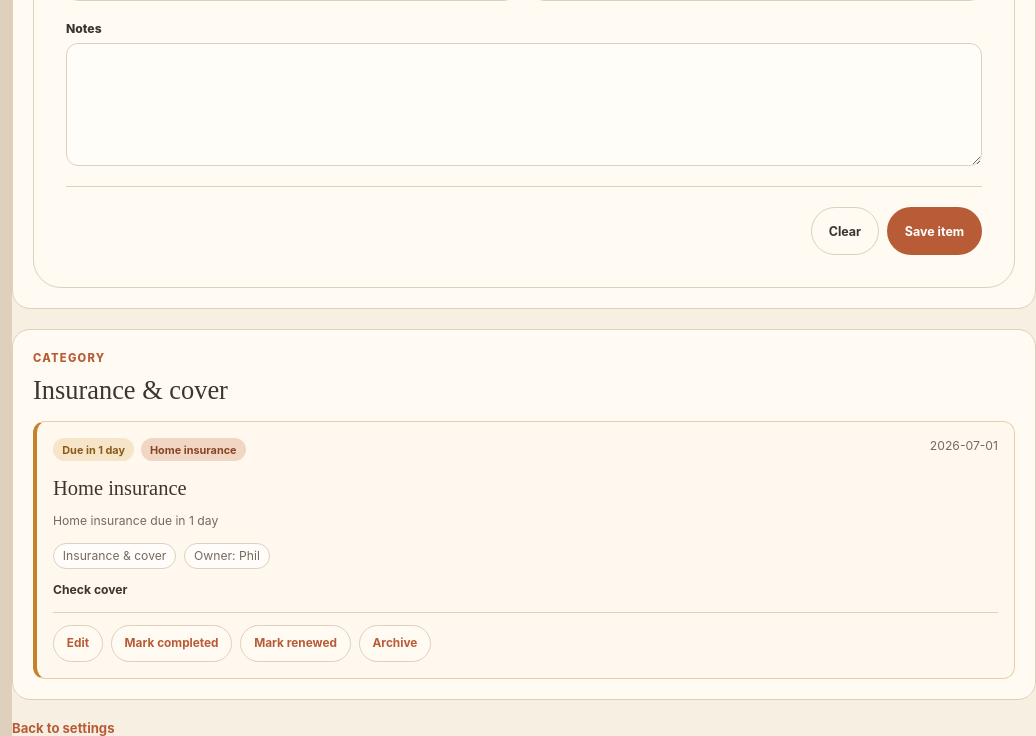
Test: Household admin page › marks completed and calculates the next due date
(page scrolled)
Click the button "Mark completed": x=172, y=644 111,625 -> 232,662
(page scrolled)
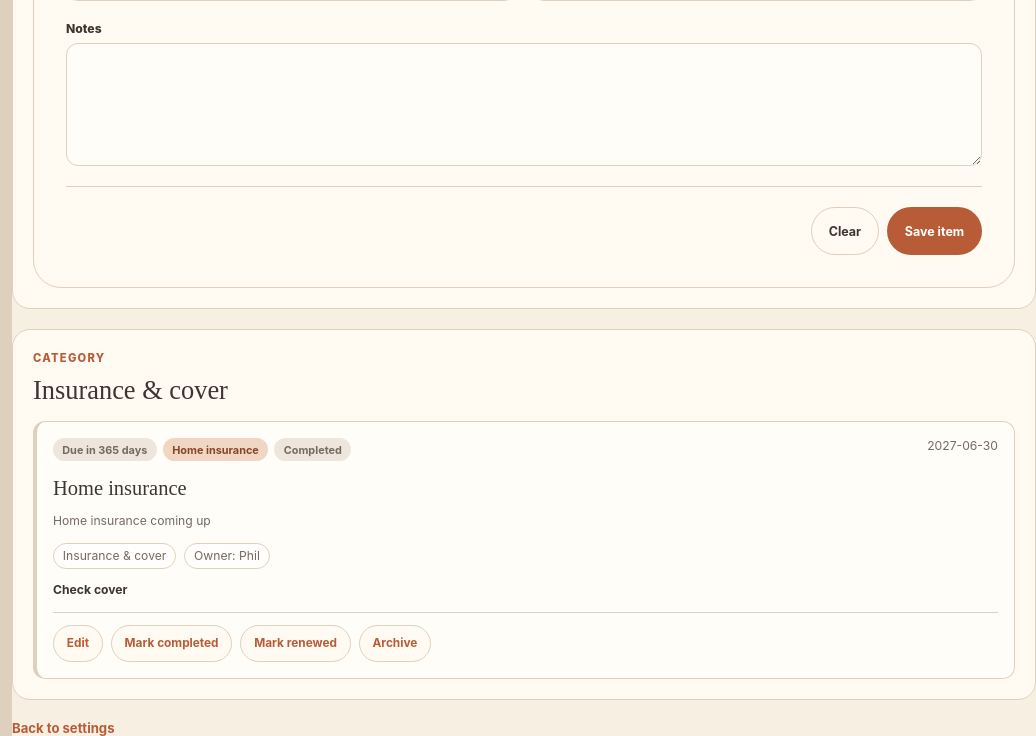
Expected: the text "2027-06-30" is shown, 927,438 -> 998,453
